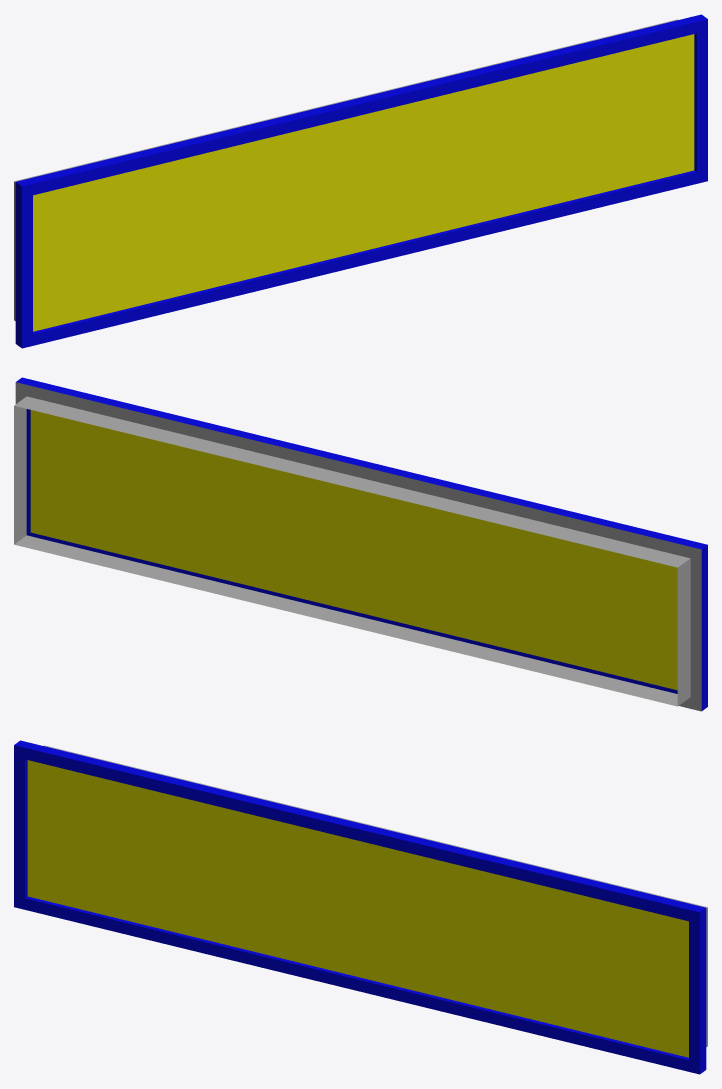
File: Window2.fbx
The picture shows the model from 3 angles, top to bottom: view 1: azimuth 30°, elevation 25°; view 2: azimuth 150°, elevation 25°; view 3: azimuth 330°, elevation 25°; orthographic projection.
Visible parts, largest first — view 1: Window2; view 2: Window2; view 3: Window2.
Part boxes in pixels (x1=…): Window2: x1=14, y1=14, x2=707, y2=348; Window2: x1=14, y1=377, x2=707, y2=711; Window2: x1=14, y1=740, x2=707, y2=1074.
Bounding box in the file's own units: 310 × 70 × 15.
